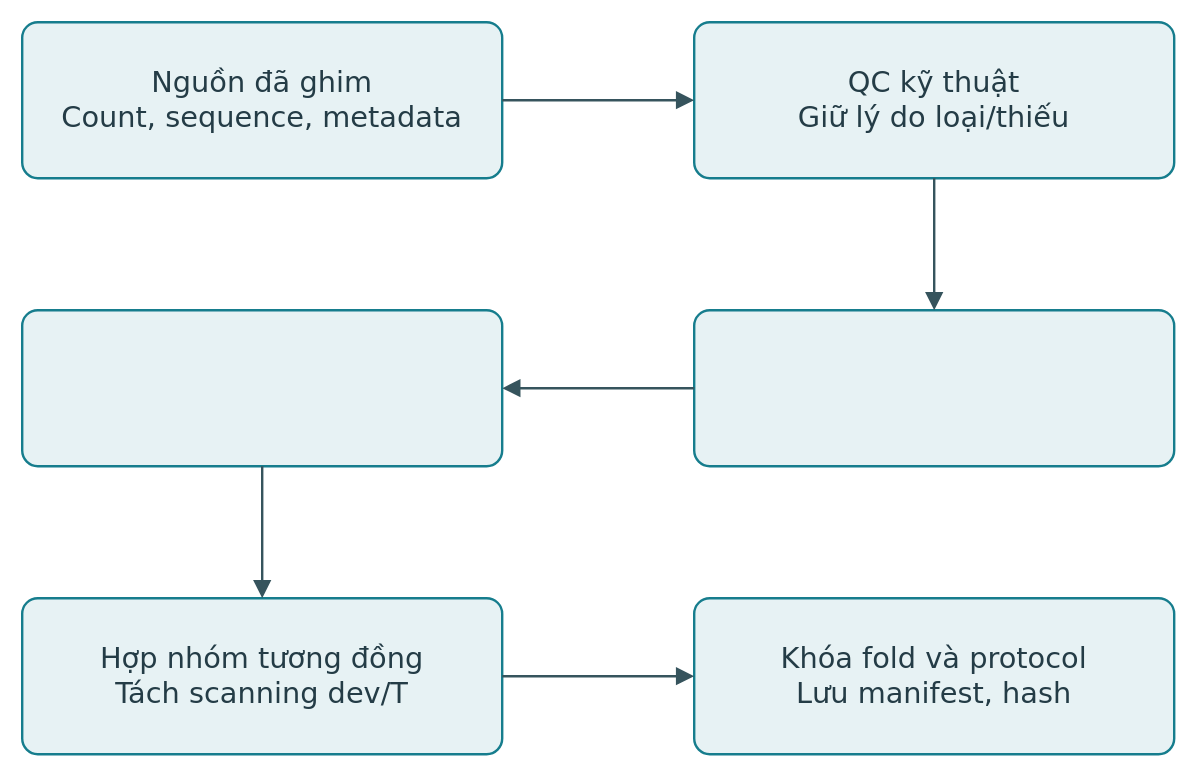
Image size: 1195x775. Some labels were removed from this diagram. The shapes that lost their labels are listed below. From the top down, each one's box as (x1, y1, x2, y2) in pixels, then its label:
(20, 308, 503, 467): Dựng WT riêng replicate Tính và gộp ΔPSI
(692, 308, 1175, 467): Ánh xạ WT, tile và tọa độ residue
